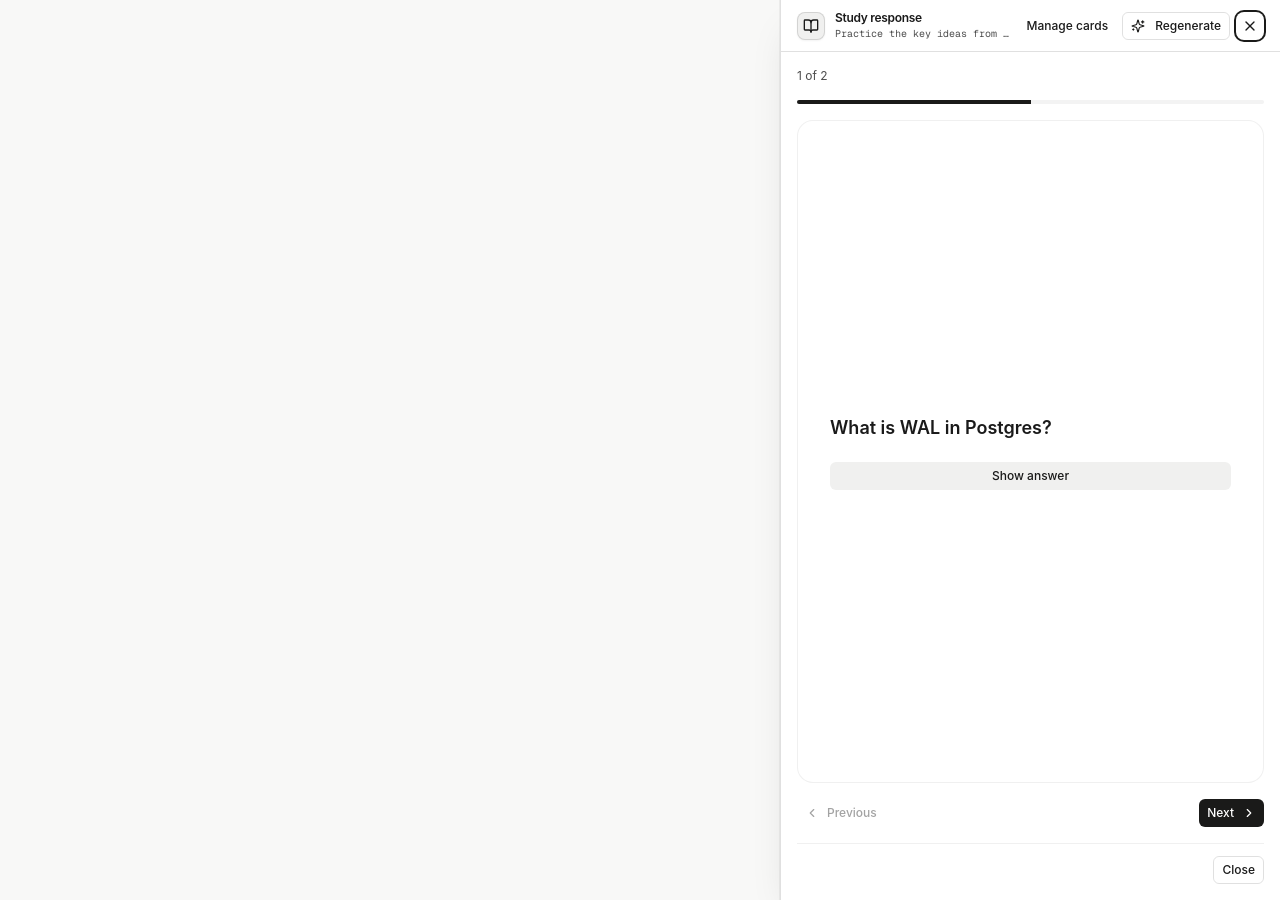
Test: FlashcardModal › deletes a card via confirmation dialog
Expected: the text "What is WAL in Postgres?" is shown, top-left (830, 417), bottom-right (1052, 438)
Click the button "Manage cards" at (1067, 26), box top-left (1018, 12), bottom-right (1116, 40)
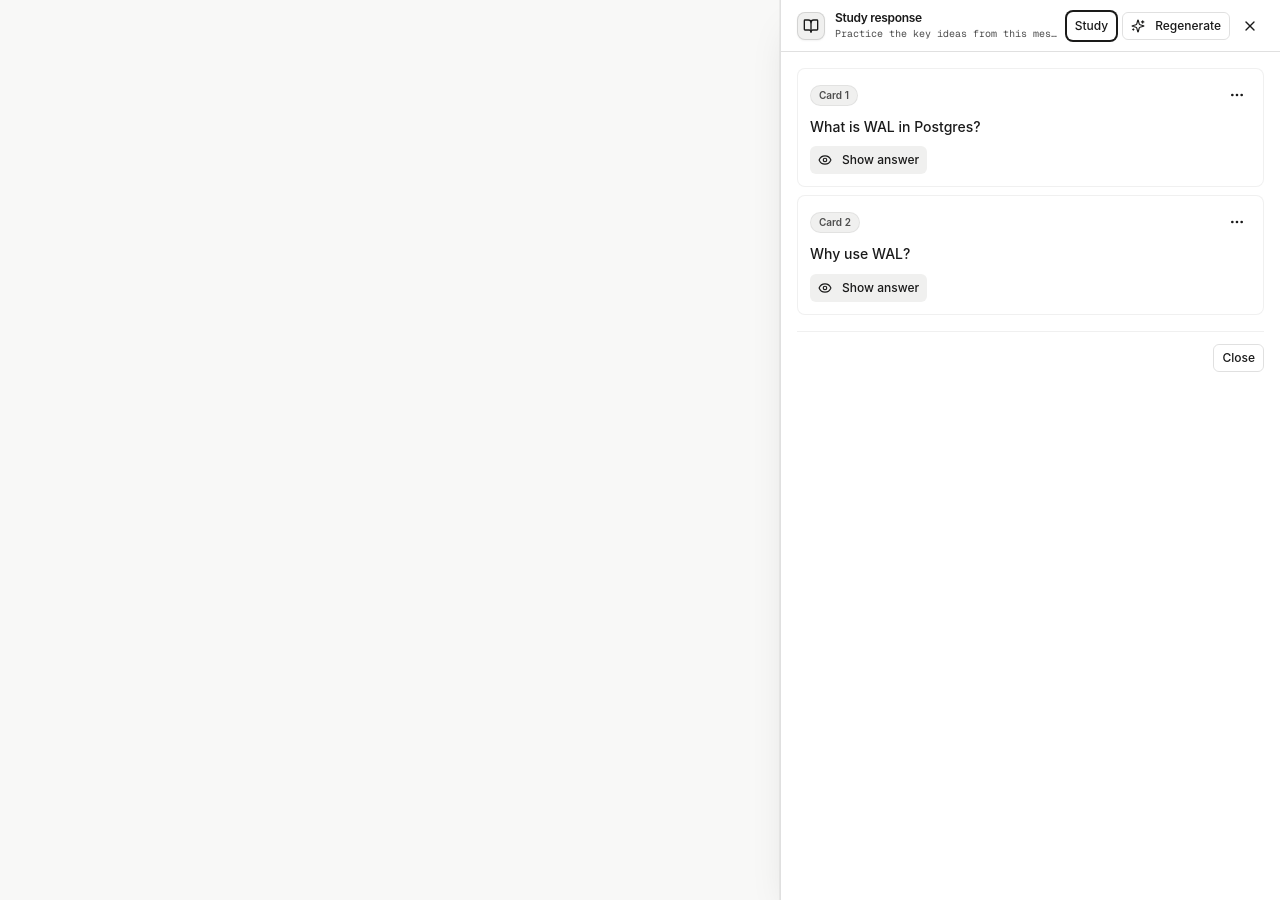
Click the 1st button named "Flashcard actions" at (1237, 95), box top-left (1223, 81), bottom-right (1251, 109)
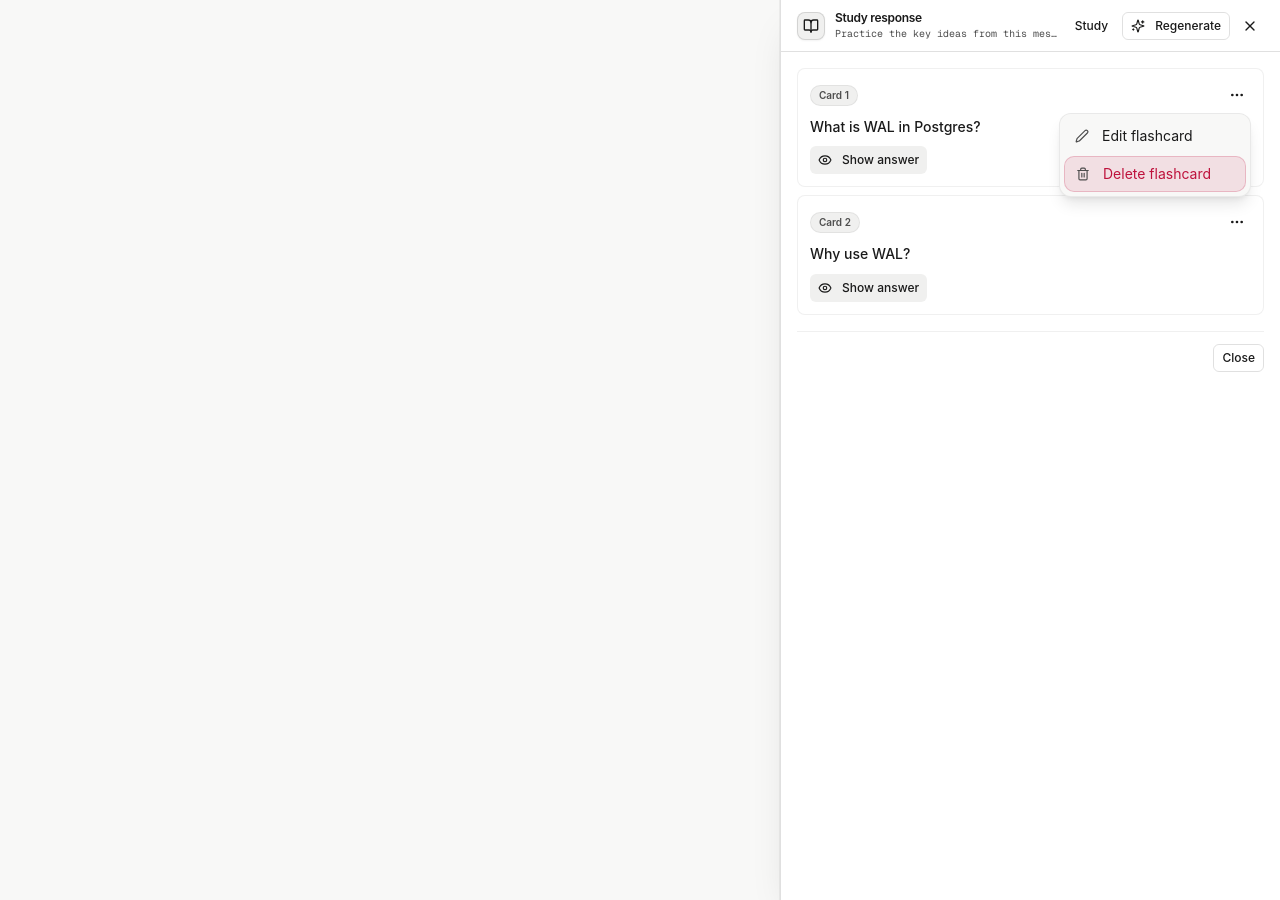
Click the menu item "Delete flashcard" at (1155, 174), box top-left (1064, 156), bottom-right (1246, 192)
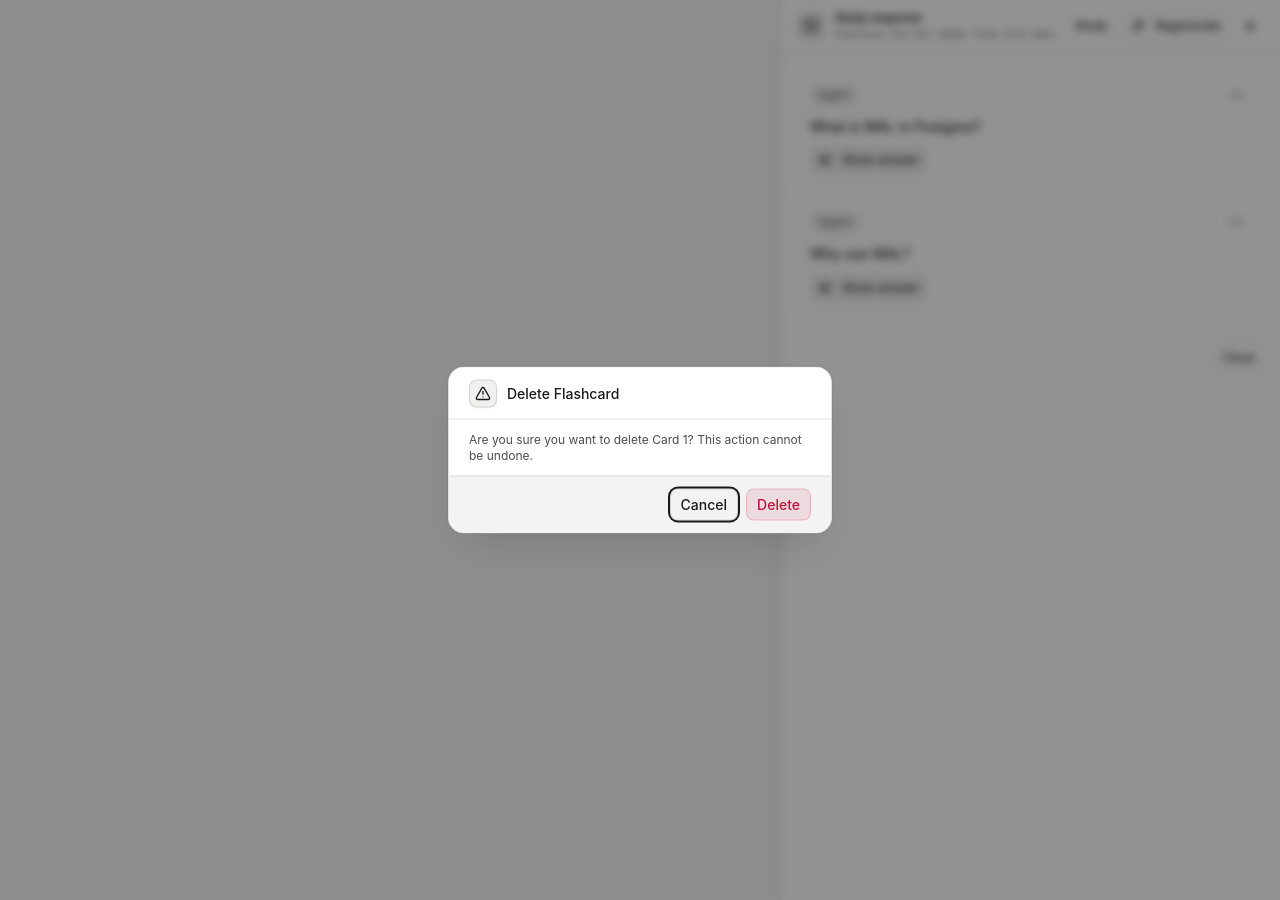
Expected: the text "Are you sure you want to delete Card 1?" is shown, top-left (469, 432), bottom-right (802, 462)
Click the button "Delete" at (779, 504), box top-left (746, 488), bottom-right (811, 520)
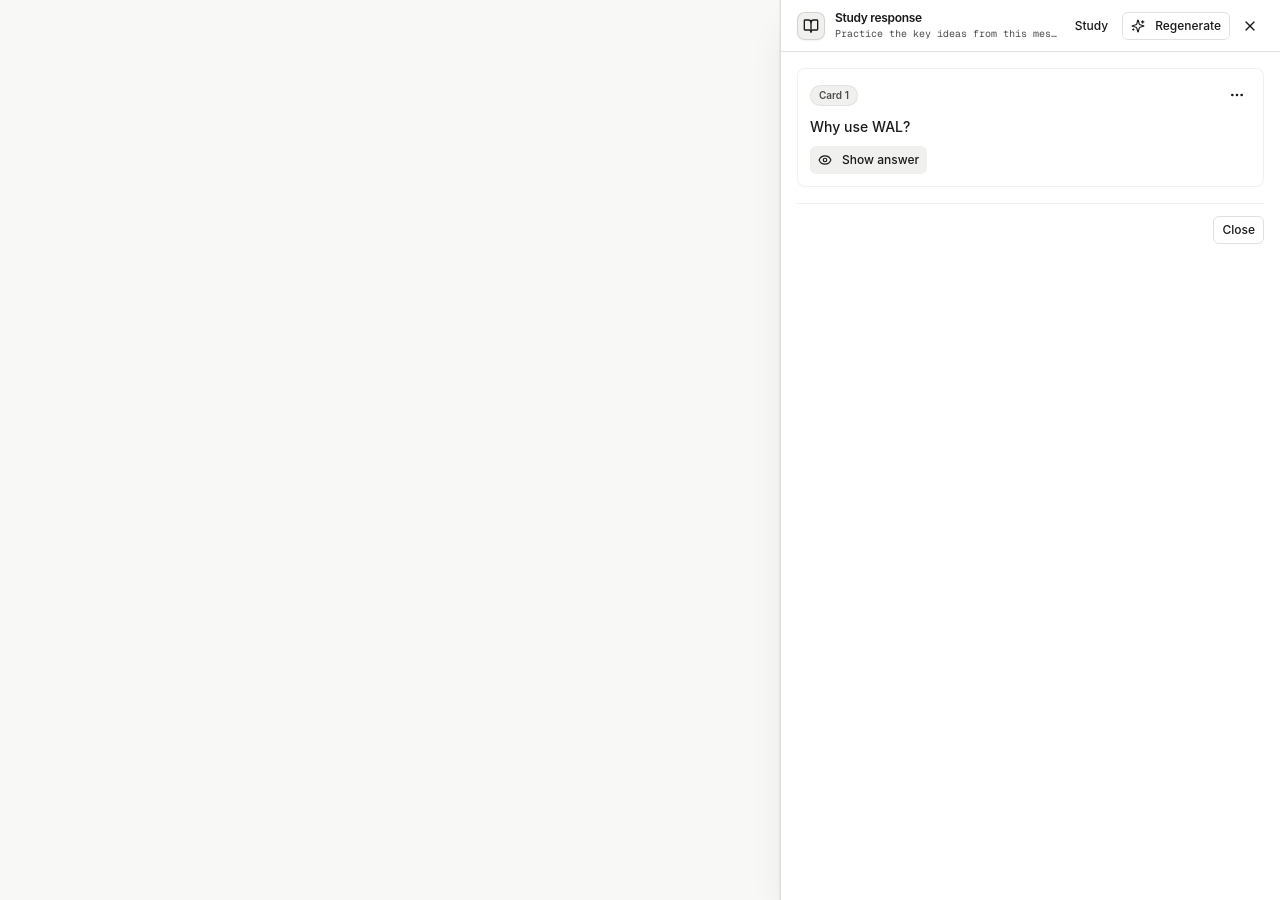
Expected: the text "Why use WAL?" is shown, top-left (810, 118), bottom-right (910, 135)
Expected: the text "What is WAL in Postgres?" is gone
